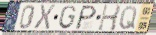0: (18, 4, 36, 30)
G: (57, 4, 78, 30)
H: (97, 4, 123, 32)
P: (74, 5, 98, 31)
Q: (118, 5, 139, 31)
X: (32, 3, 57, 31)
